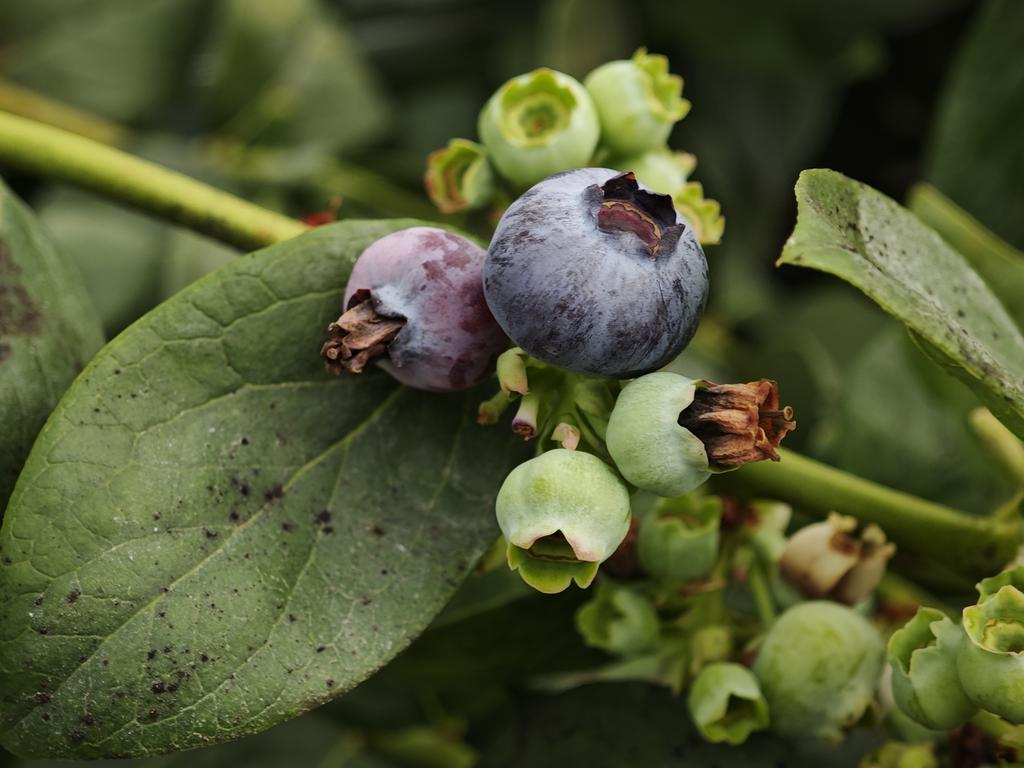RipeBlueBerry: (480, 163, 716, 383)
Semi-RipeBlueBerry: (340, 222, 494, 392)
UnripeBlueBerry: (490, 445, 634, 581), (607, 370, 740, 500)
